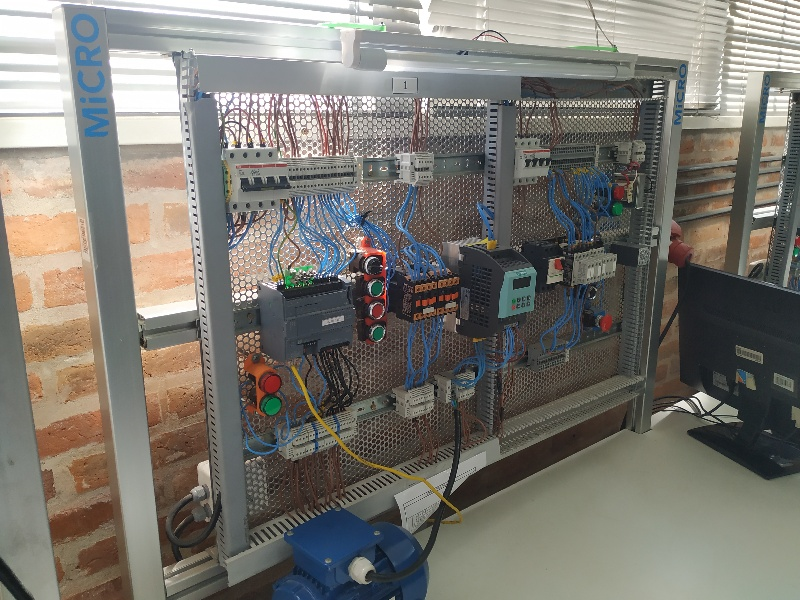Tablero 1: (210, 85, 654, 484)
